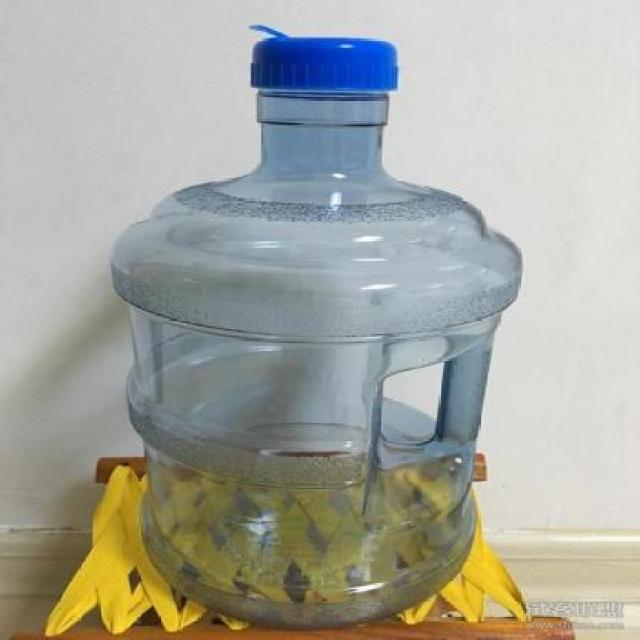coolerbottle: (109, 37, 528, 635)
